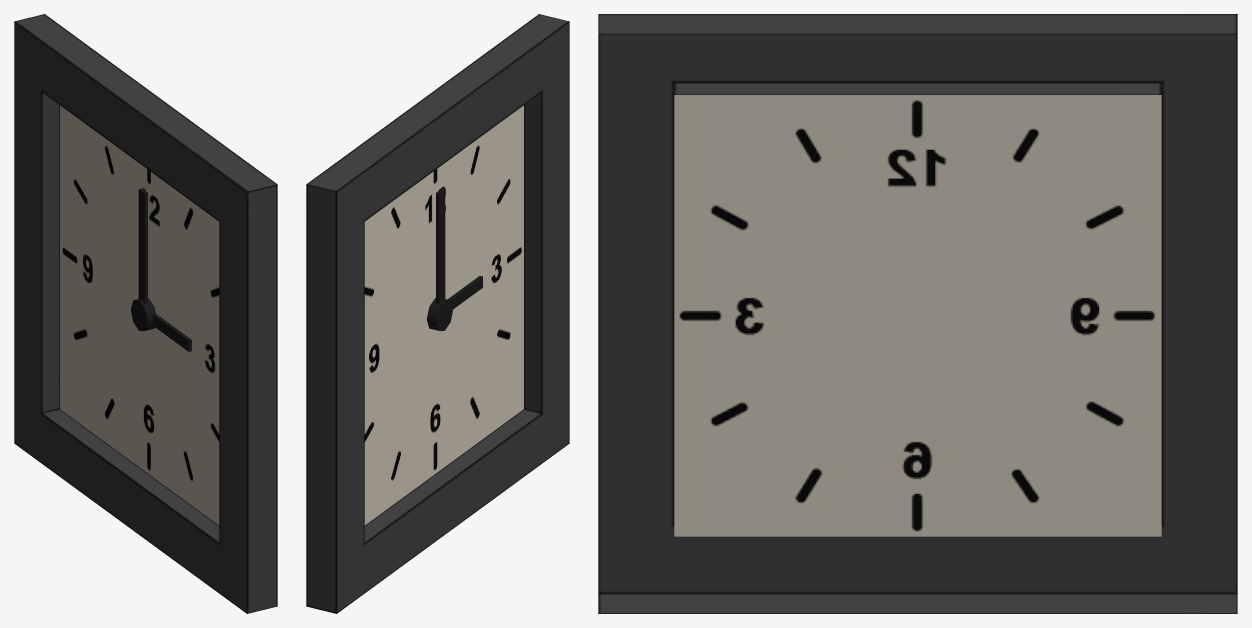
File: clock_black.fbx
3 views of the same model, side by side, from view 1: azimuth 30°, elevation 25°; view 2: azimuth 150°, elevation 25°; view 3: azimuth 270°, elevation 25° (orthographic). The views are drawn at different scales.
Visible parts, largest first — view 1: clockBlack, clockBlack_minute, clockBlack_hour; view 2: clockBlack, clockBlack_minute, clockBlack_hour; view 3: clockBlack.
Boxes of the visible parts, x1,y1,x2,y2 form: clockBlack: (14,14,277,613); clockBlack_minute: (138,188,147,303); clockBlack_hour: (152,313,191,351); clockBlack: (306,14,569,613); clockBlack_minute: (436,188,445,303); clockBlack_hour: (447,276,482,309); clockBlack: (598,14,1237,613).
Size of the model in its own units: 0.0361 by 0.4765 by 0.4765.
